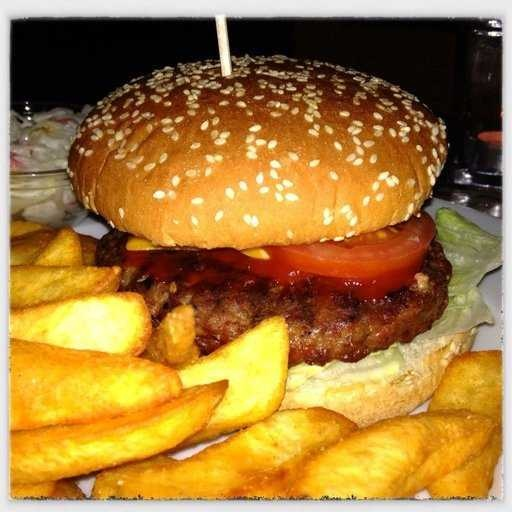hamburger: (83, 53, 456, 417)
